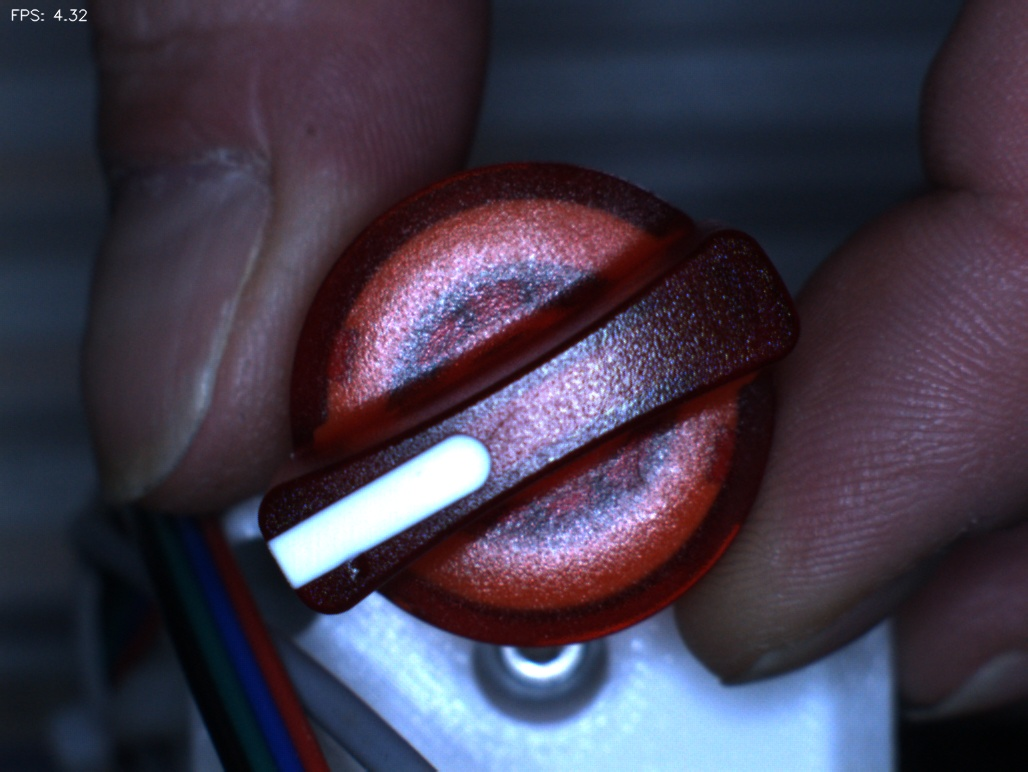Choc: (331, 534, 402, 605)
